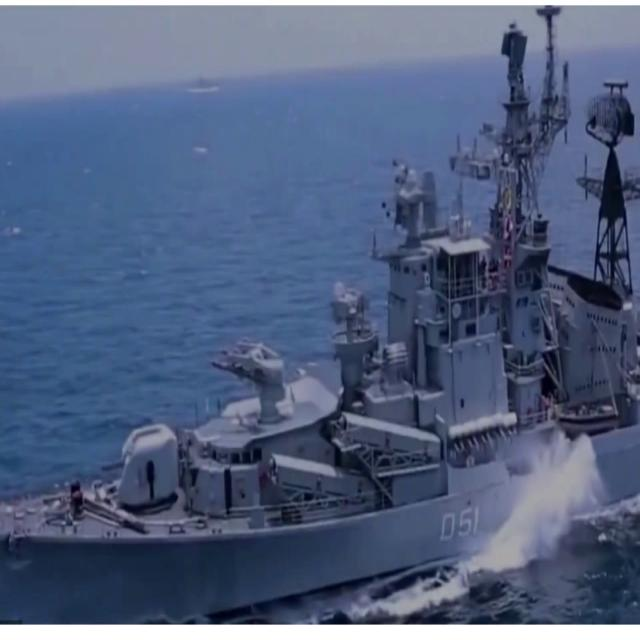OCR: (436, 502, 483, 553)
